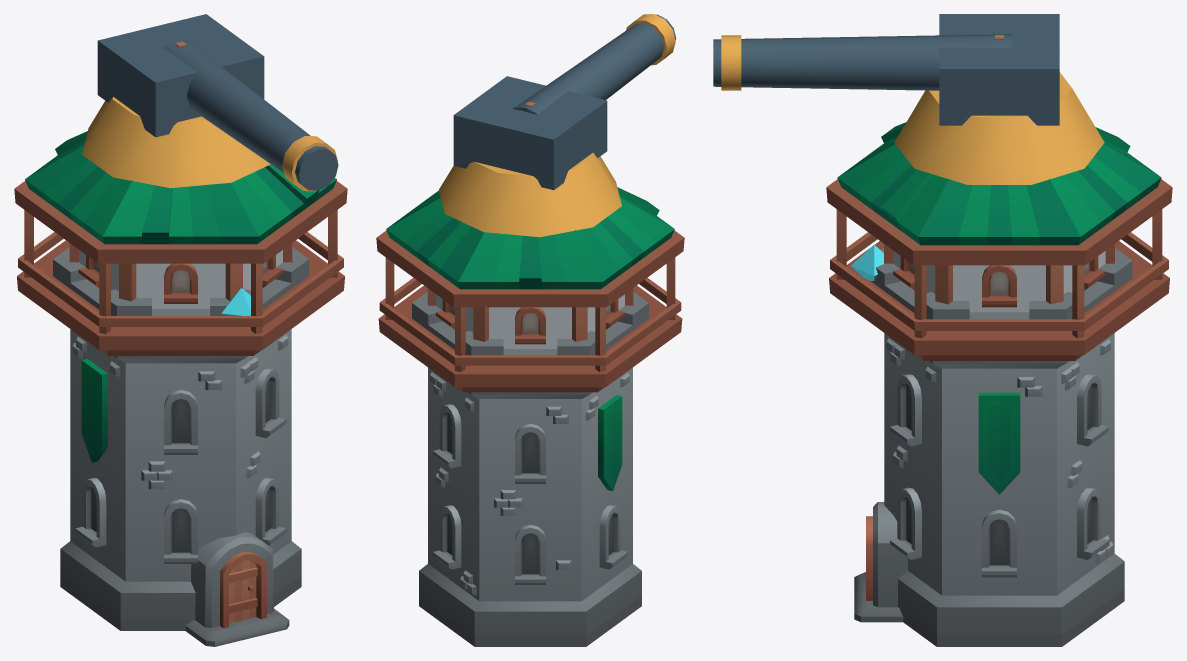
Rendered from tower_sniper_l1.glb.
3 renders of one model, left to right at view 1: azimuth 30°, elevation 25°; view 2: azimuth 150°, elevation 25°; view 3: azimuth 270°, elevation 25°, orthographic. The views are drawn at different scales.
Visible parts, largest first — view 1: Base, building_tower_B_top_green, BarrelAssembly, Turret; view 2: Base, building_tower_B_top_green, BarrelAssembly, Turret; view 3: Base, building_tower_B_top_green, BarrelAssembly, Turret.
Boxes of the visible parts, box(x1,y1,x2,y2) form: Base: box(53, 247, 308, 646); building_tower_B_top_green: box(14, 41, 347, 355); BarrelAssembly: box(97, 14, 338, 191); Turret: box(82, 96, 270, 188); Base: box(412, 292, 648, 646); building_tower_B_top_green: box(376, 101, 684, 392); BarrelAssembly: box(453, 14, 676, 190); Turret: box(439, 153, 621, 237); Base: box(851, 244, 1132, 646); building_tower_B_top_green: box(826, 35, 1172, 360); BarrelAssembly: box(713, 14, 1059, 125); Turret: box(894, 72, 1104, 184).
Bounding box in the file's own units: 1.2 × 2.49 × 1.83.
4 materials, 1 textured.
